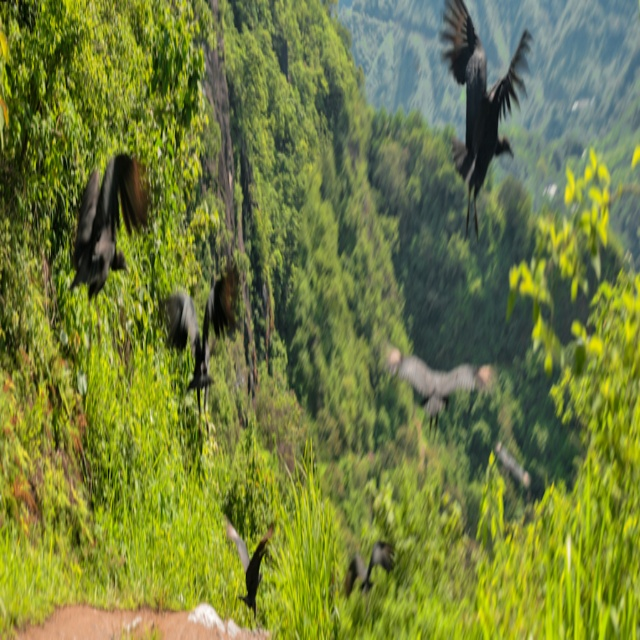Eagle: (437, 0, 534, 283), (154, 259, 240, 436), (53, 151, 149, 302), (226, 522, 277, 611)
